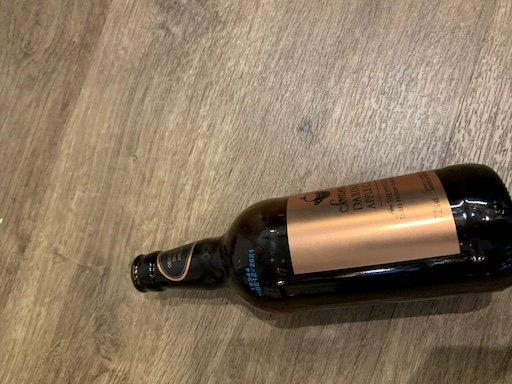botolkaca: (131, 164, 512, 311)
